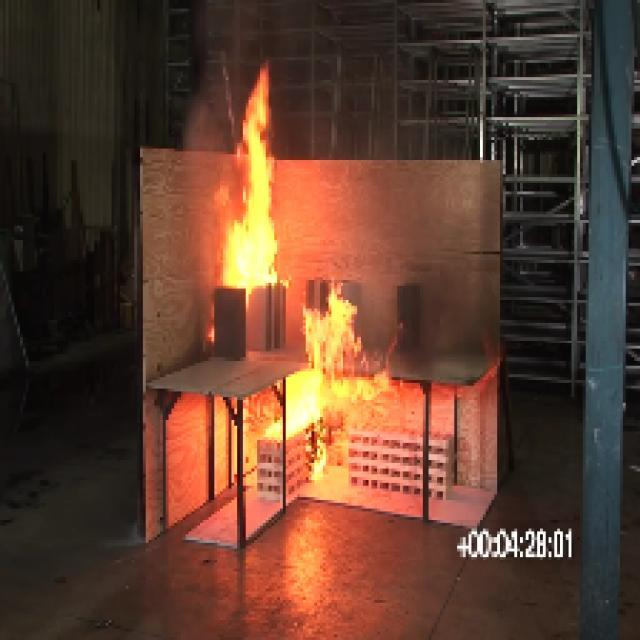Fire: (218, 66, 280, 292), (292, 296, 365, 446)
